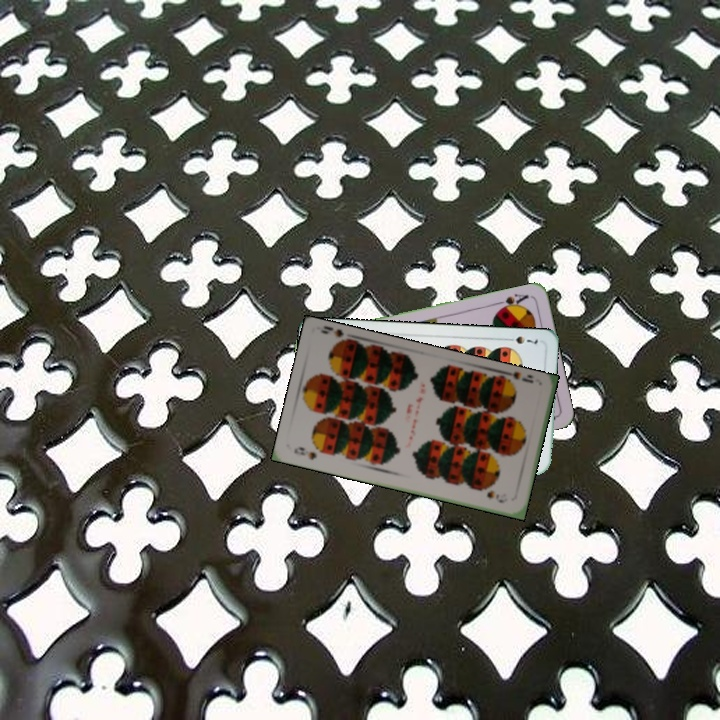S7: (502, 332, 540, 348)
S9: (500, 372, 536, 389), (290, 443, 319, 462)
SA: (492, 289, 531, 313)
